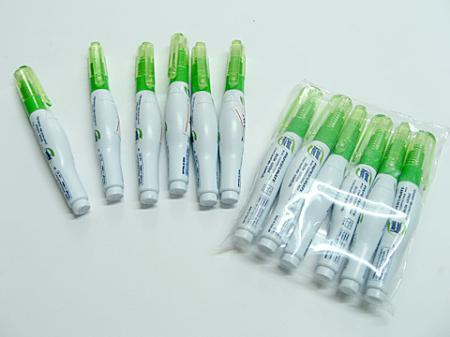Correction_fluid: (11, 64, 90, 218), (81, 35, 127, 206), (187, 36, 224, 210), (129, 38, 166, 206), (215, 35, 250, 205), (164, 29, 192, 199)
